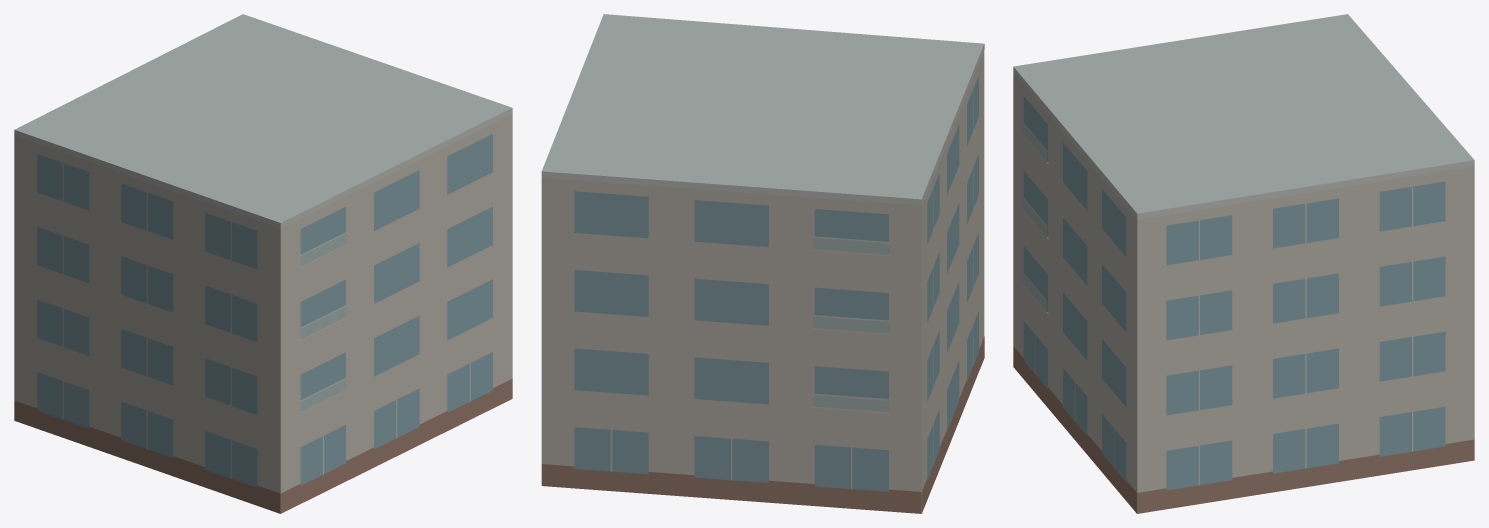
File: survey-upis-32853639.glb
3 renders of one model, left to right at view 1: azimuth 30°, elevation 25°; view 2: azimuth 150°, elevation 25°; view 3: azimuth 270°, elevation 25°, orthographic. The views are drawn at different scales.
Parts seen in each view (by area): view 1: survey-upis-32853639.tmp; view 2: survey-upis-32853639.tmp; view 3: survey-upis-32853639.tmp.
Boxes of the visible parts, left/top/right/bottom form: survey-upis-32853639.tmp: left=14, top=14, right=512, bottom=513; survey-upis-32853639.tmp: left=541, top=14, right=984, bottom=513; survey-upis-32853639.tmp: left=1013, top=14, right=1474, bottom=513.
Size of the model in its own units: 17.4 by 12.2 by 17.
